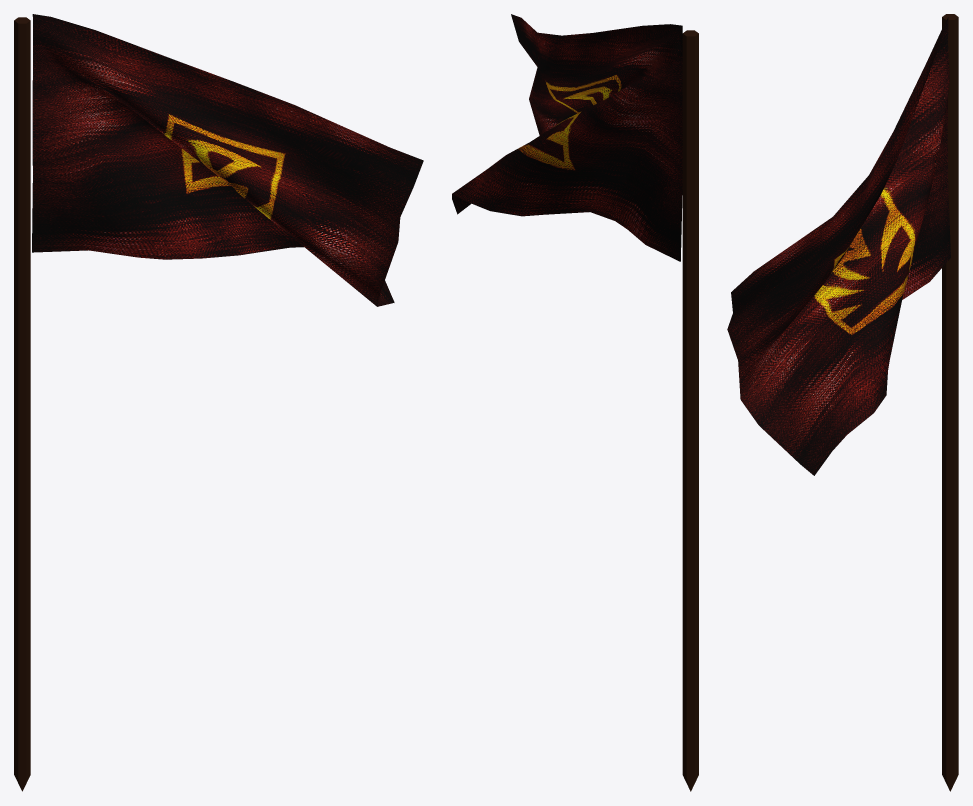
Rendered from redflag.obj.
3 renders of one model, left to right at view 1: azimuth 30°, elevation 25°; view 2: azimuth 150°, elevation 25°; view 3: azimuth 270°, elevation 25°, orthographic. The views are drawn at different scales.
Parts seen in each view (by area): view 1: USMC_flag; view 2: USMC_flag; view 3: USMC_flag.
Boxes of the visible parts, x1,y1,x2,y2 form: USMC_flag: [14, 14, 423, 791]; USMC_flag: [452, 14, 698, 791]; USMC_flag: [727, 14, 958, 791].
Bounding box in the file's own units: 0.7328 × 1.75 × 0.4696.
Materials: 2 (1 with a texture image).
